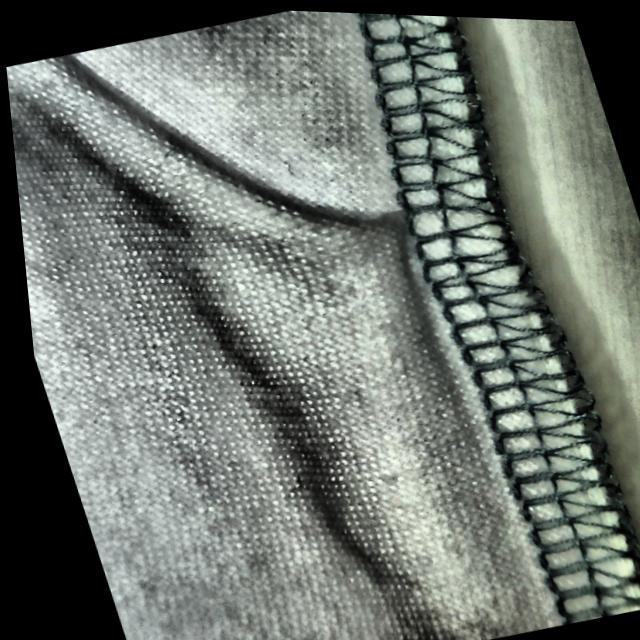seam: (256, 124, 573, 369)
